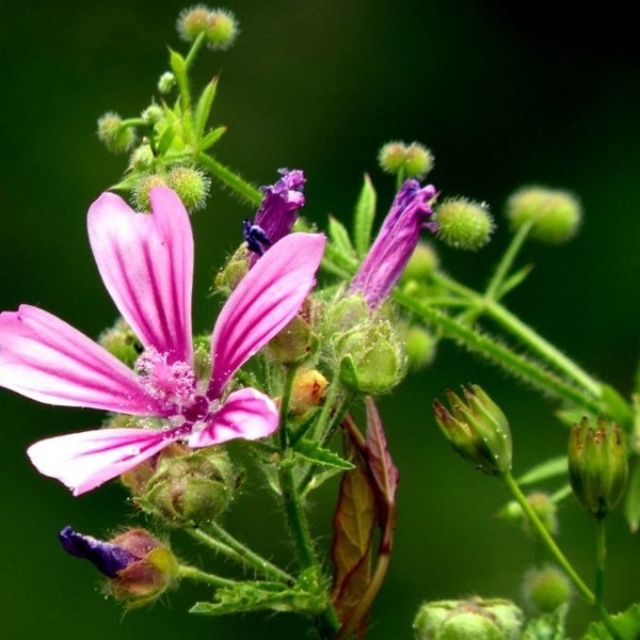obstacle: (81, 167, 353, 571)
